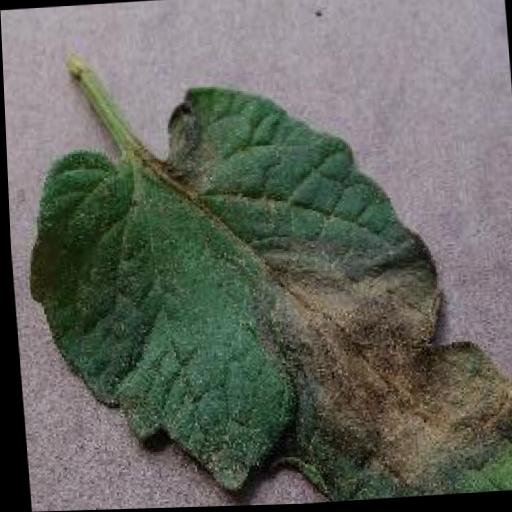Late Blight: (13, 71, 512, 512)
